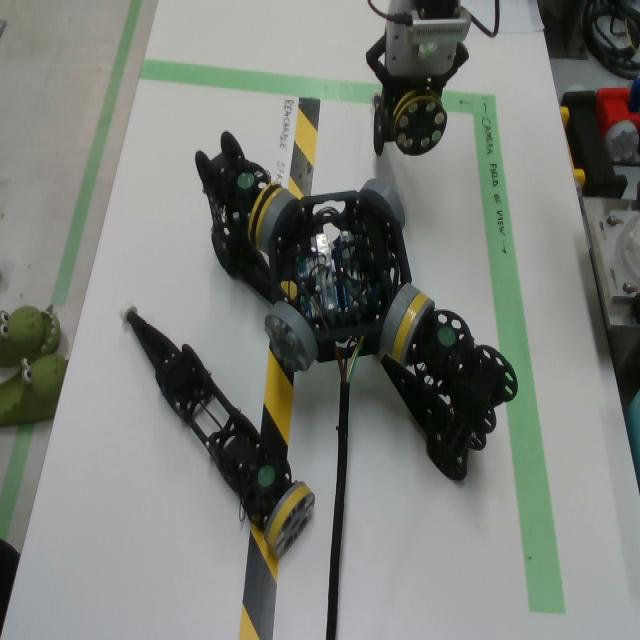body: (268, 192, 413, 364)
body_connector: (265, 303, 318, 372), (380, 284, 419, 356), (259, 191, 298, 255), (360, 179, 406, 229)
gripper: (365, 21, 469, 108)
leg: (118, 299, 315, 557), (375, 293, 518, 481), (194, 132, 282, 304), (370, 76, 447, 157)
leg_connector: (263, 481, 316, 560), (393, 88, 447, 157), (391, 293, 435, 365), (248, 181, 283, 249)
leg_marker: (258, 465, 276, 488), (438, 327, 455, 347), (238, 173, 254, 189)
